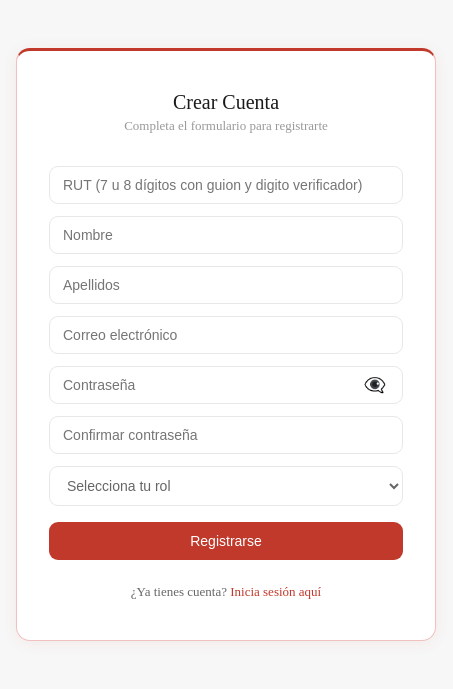
Test: Register › Validaciones de formulario › valida formato de RUT
This screenshot has width=453, height=689.
In the field with placeholder "RUT (7 u 8 dígitos con guion y digito verificador)": (226, 184) [49, 166, 403, 204], type "13579"
In the field with placeholder "Nombre": (226, 234) [49, 216, 403, 254], type "Tomas"
In the field with placeholder "Apellidos": (226, 284) [49, 266, 403, 304], type "Valdes"
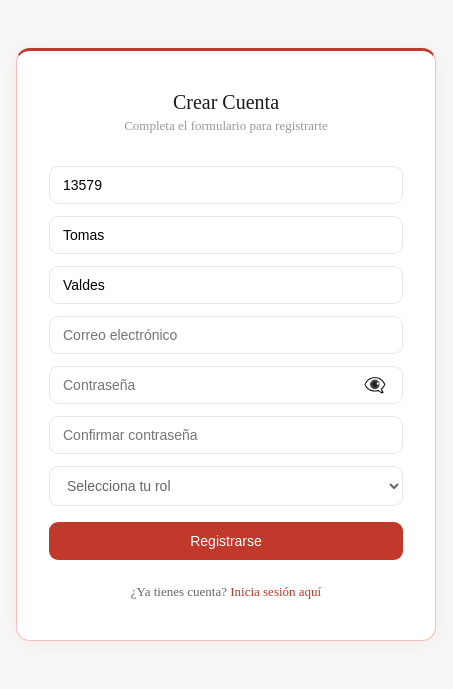
In the field with placeholder "Correo electrónico": (226, 334) [49, 316, 403, 354], type "tomas@test.com"
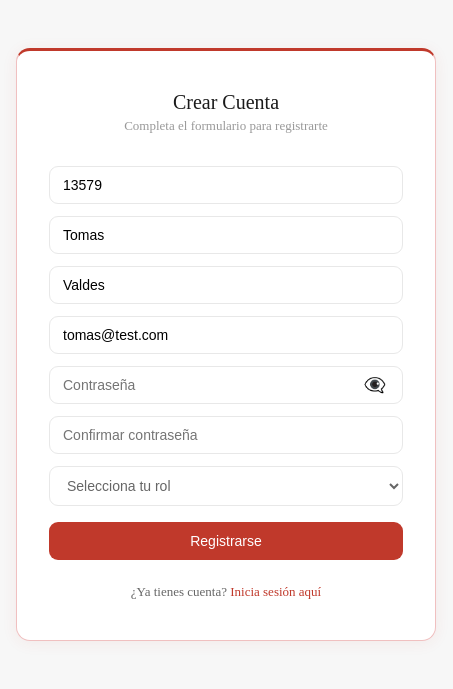
In the password field with placeholder "Contraseña": (226, 384) [49, 366, 403, 404], type "Tomivaldes1!"
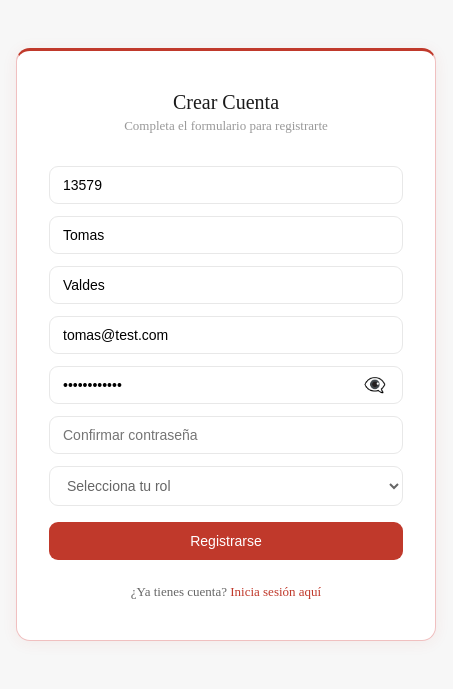
In the password field with placeholder "Confirmar contraseña": (226, 434) [49, 416, 403, 454], type "Tomivaldes1!"
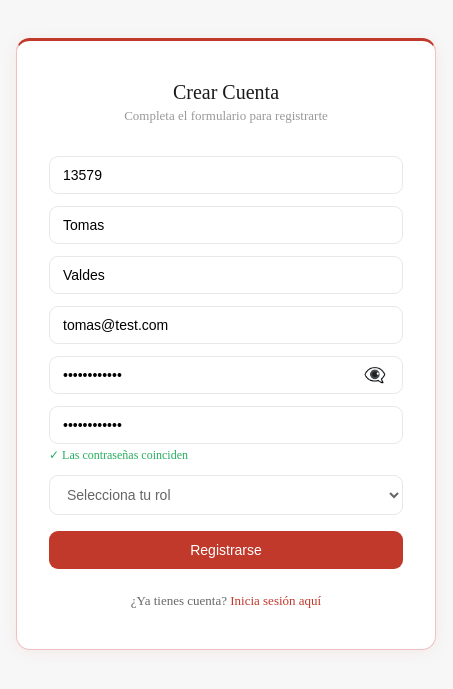
Select "Solicitante" in the dropdown: (226, 495) [49, 475, 403, 515]
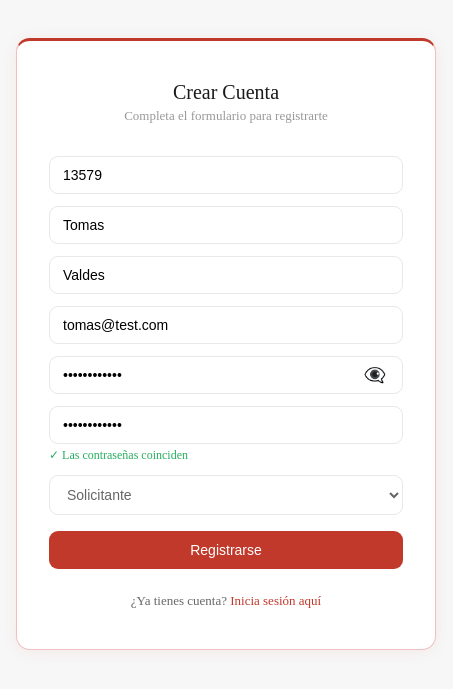
Submit the form from the button "Registrarse", box [49, 531, 403, 569]
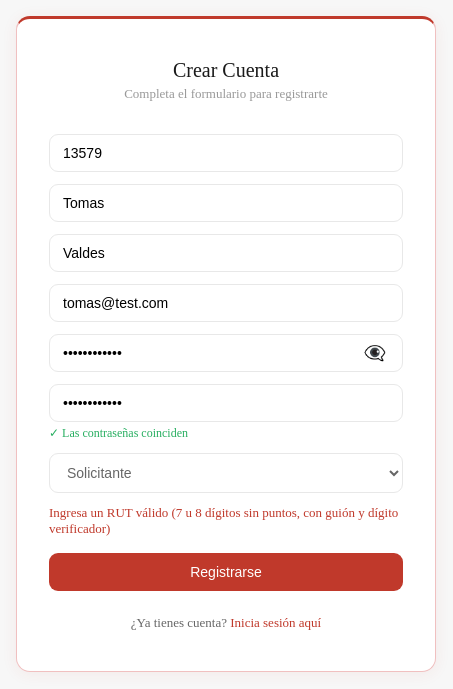
Now the message shows "Ingresa un RUT válido", box [49, 505, 398, 536]
